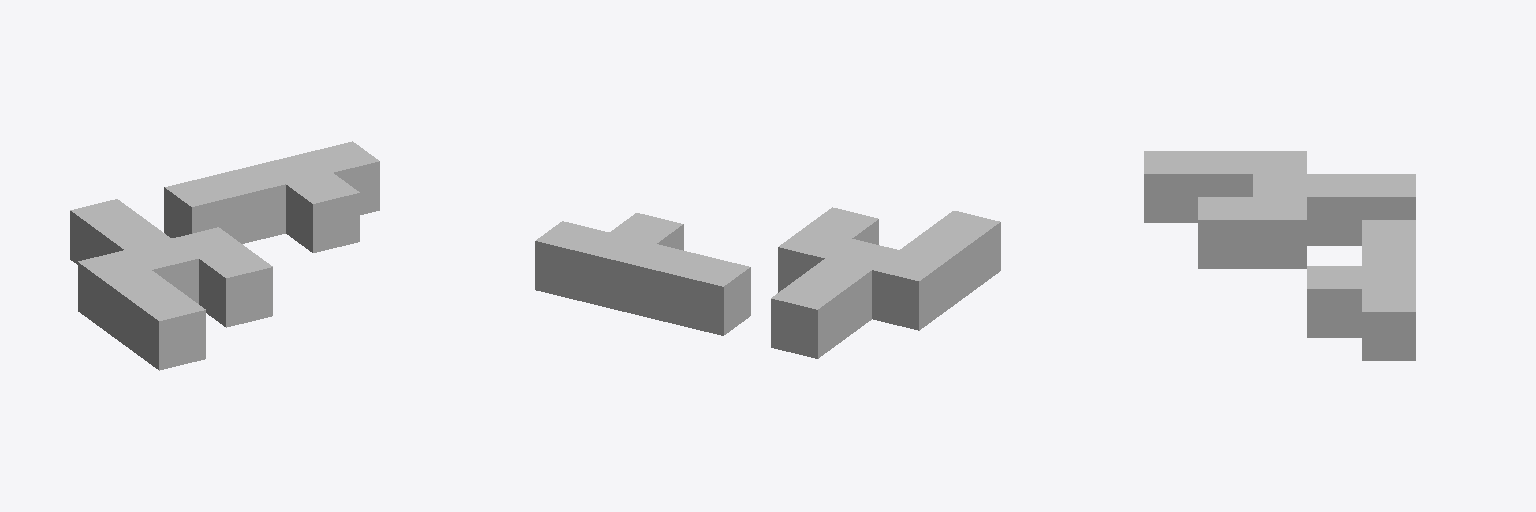
File: darkTwig1-0.obj
3 renders of one model, left to right at view 1: azimuth 30°, elevation 25°; view 2: azimuth 150°, elevation 25°; view 3: azimuth 270°, elevation 25°, orthographic.
Visible parts, largest first — view 1: object 1; view 2: object 1; view 3: object 1.
Part boxes in pixels (left/top/right/bottom): object 1: left=70, top=141, right=379, bottom=370; object 1: left=535, top=207, right=1000, bottom=358; object 1: left=1144, top=151, right=1415, bottom=360.
Size of the model in its own units: 0.7 by 0.1 by 0.5.